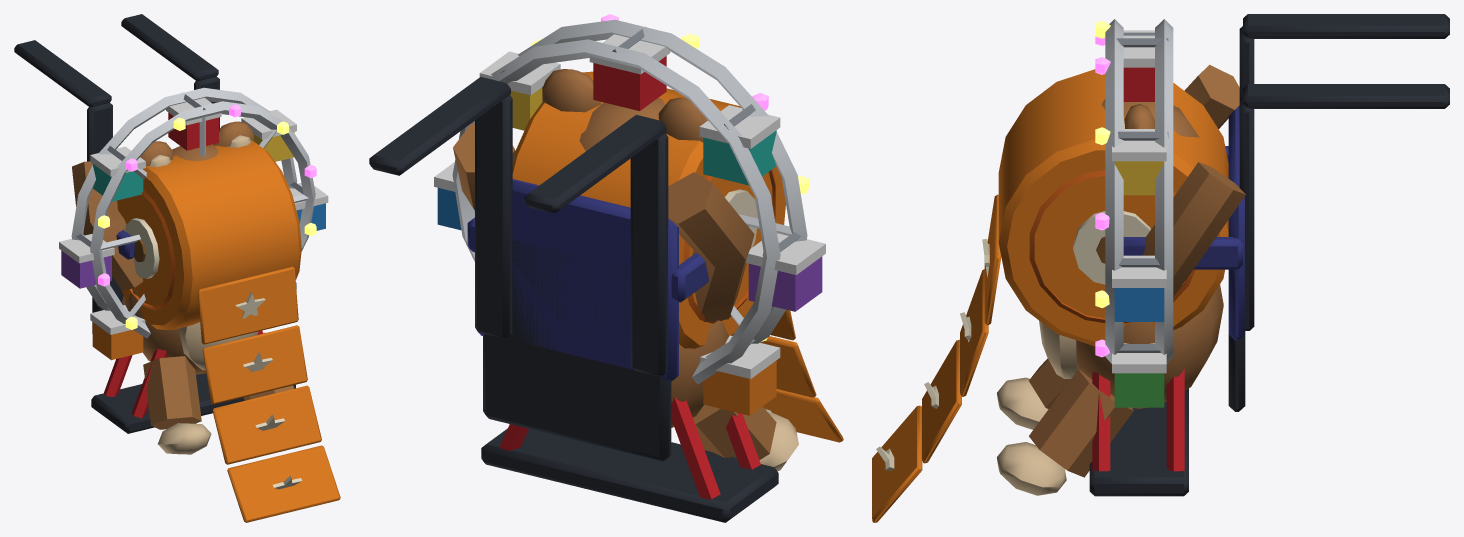
File: 2026-11-24_dos.glb
3 renders of one model, left to right at view 1: azimuth 30°, elevation 25°; view 2: azimuth 150°, elevation 25°; view 3: azimuth 270°, elevation 25°, orthographic. The views are drawn at different scales.
Visible parts, largest first — view 1: dos_rouleau_de_tickets, dos_mini_grande_roue, dos_nounours_de_foire; view 2: dos_mini_grande_roue, dos_rouleau_de_tickets, dos_nounours_de_foire; view 3: dos_mini_grande_roue, dos_rouleau_de_tickets, dos_nounours_de_foire.
Boxes of the visible parts, x1,y1,x2,y2 form: dos_rouleau_de_tickets: [116, 140, 340, 522]; dos_mini_grande_roue: [14, 14, 328, 433]; dos_nounours_de_foire: [72, 121, 293, 454]; dos_mini_grande_roue: [369, 14, 825, 522]; dos_rouleau_de_tickets: [467, 71, 843, 442]; dos_nounours_de_foire: [453, 69, 798, 471]; dos_mini_grande_roue: [1089, 14, 1449, 496]; dos_rouleau_de_tickets: [872, 69, 1245, 522]; dos_nounours_de_foire: [997, 64, 1245, 495].
Bounding box in the file's own units: 0.466 × 0.6073 × 0.6978.
